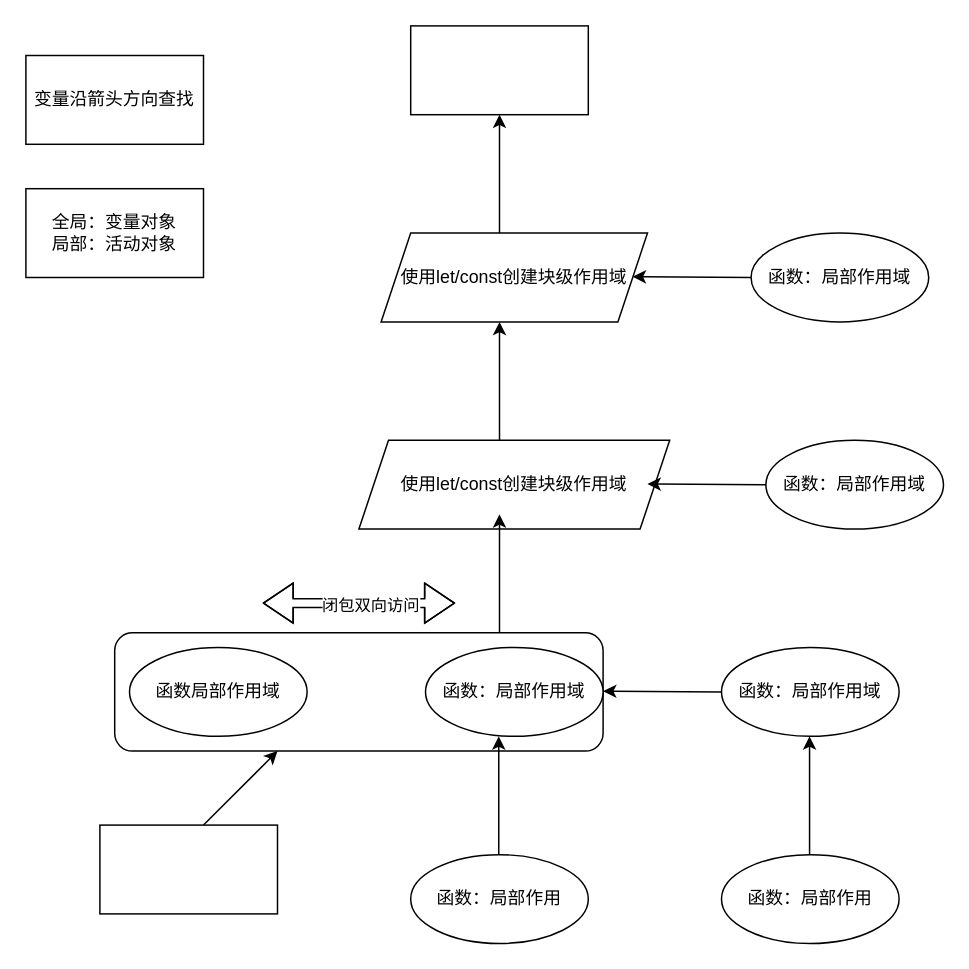
Image size: 969x969. Some labels were removed from this diagram. Here are the shapes that lost their labels. From the top down, the box of each, then its label:
(409, 24, 588, 115): 全局作用域
(113, 631, 603, 751): 闭包
(98, 824, 278, 914): 形成闭包区域，是一个集合(函数)；其中包括两个作用域的活动对象
